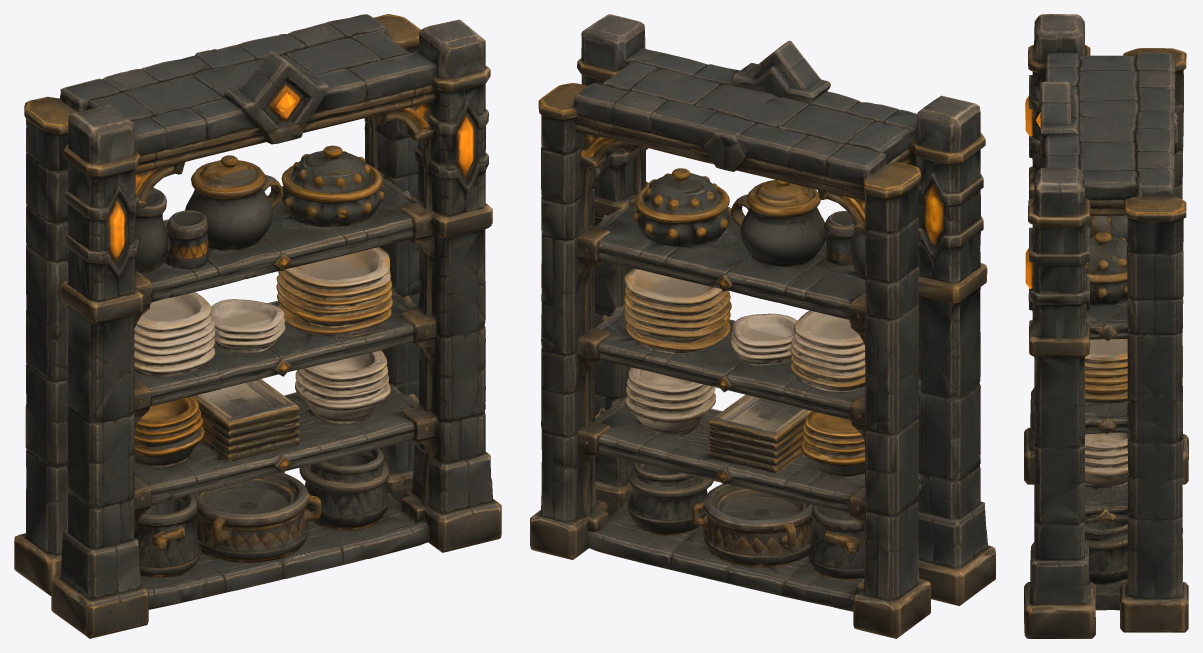
Rendered from shelf-unit.glb.
3 renders of one model, left to right at view 1: azimuth 30°, elevation 25°; view 2: azimuth 150°, elevation 25°; view 3: azimuth 270°, elevation 25°, orthographic. The views are drawn at different scales.
Parts seen in each view (by area): view 1: mesh_node; view 2: mesh_node; view 3: mesh_node.
Part boxes in pixels (x1,y1,x2,y2): mesh_node: (14,14,501,638); mesh_node: (530,14,995,638); mesh_node: (1024,14,1188,638).
Size of the model in its own units: 1.59 by 1.9 by 0.6065.
1 material, 1 textured.
